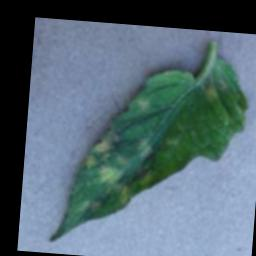Leaf_Mold: (96, 163, 133, 207), (92, 125, 122, 155), (80, 152, 99, 172)
